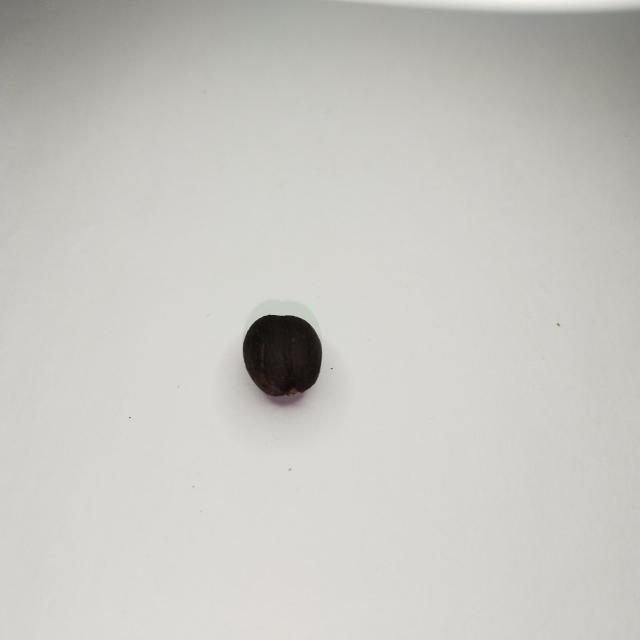Danado: (243, 315, 321, 396)
